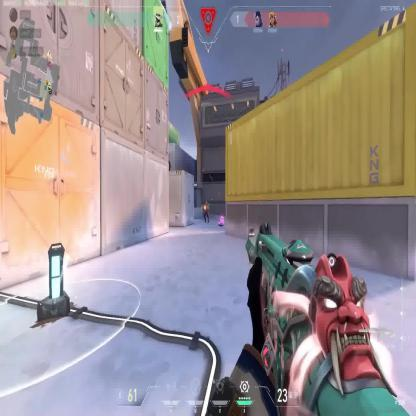enemy: (164, 148, 172, 174), (203, 200, 209, 221)
enemy_head: (205, 202, 208, 208)
